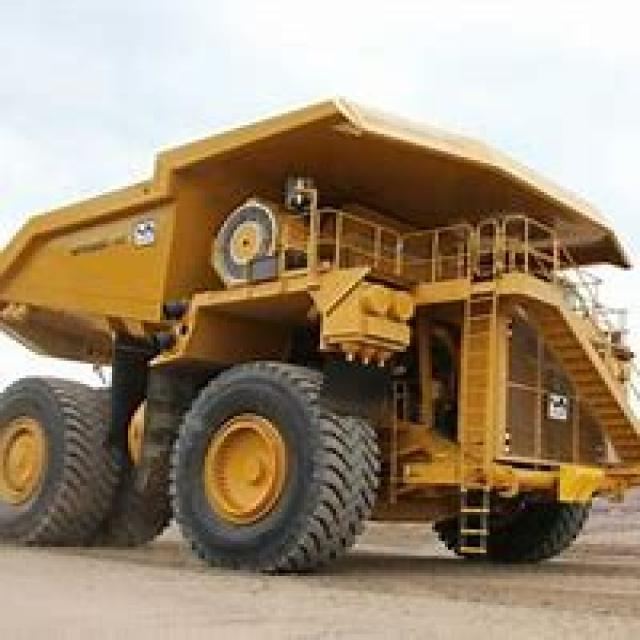dump_truck: (6, 96, 637, 570)
